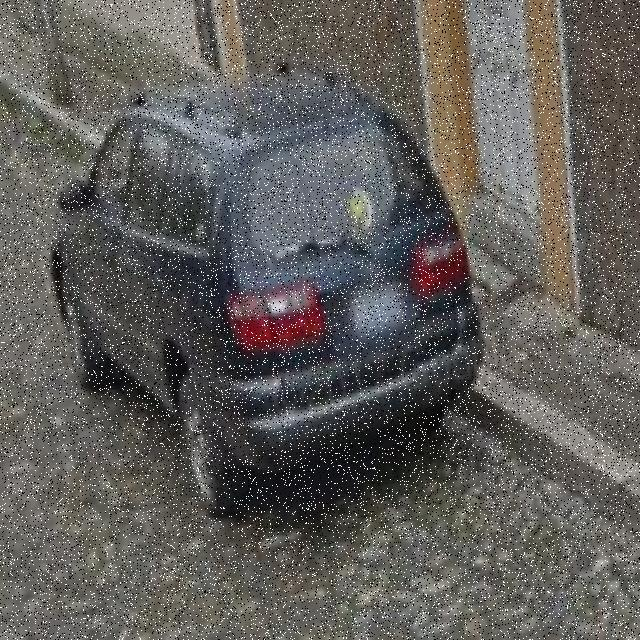cars: (52, 74, 482, 497)
